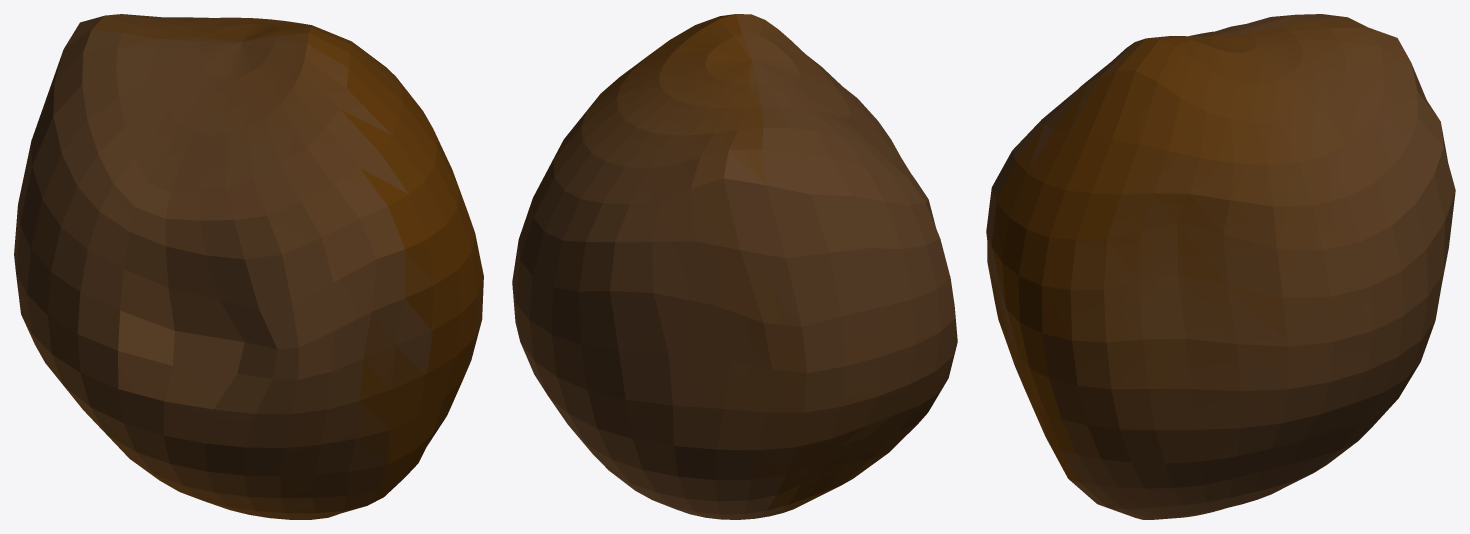
Rendered from meteoro.fbx.
3 views of the same model, side by side, from view 1: azimuth 30°, elevation 25°; view 2: azimuth 150°, elevation 25°; view 3: azimuth 270°, elevation 25° (orthographic).
Parts seen in each view (by area): view 1: Esfera; view 2: Esfera; view 3: Esfera.
Boxes of the visible parts, x1=… form: Esfera: x1=14, y1=14, x2=483, y2=519; Esfera: x1=512, y1=14, x2=957, y2=519; Esfera: x1=986, y1=14, x2=1455, y2=519.
Size of the model in its own units: 1.87 by 2.21 by 1.99.
1 material, 1 textured.
